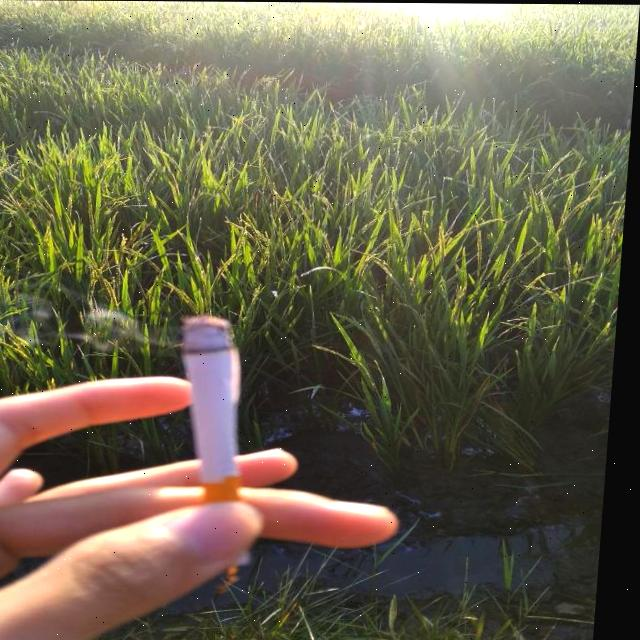cigarette: (178, 315, 256, 500)
